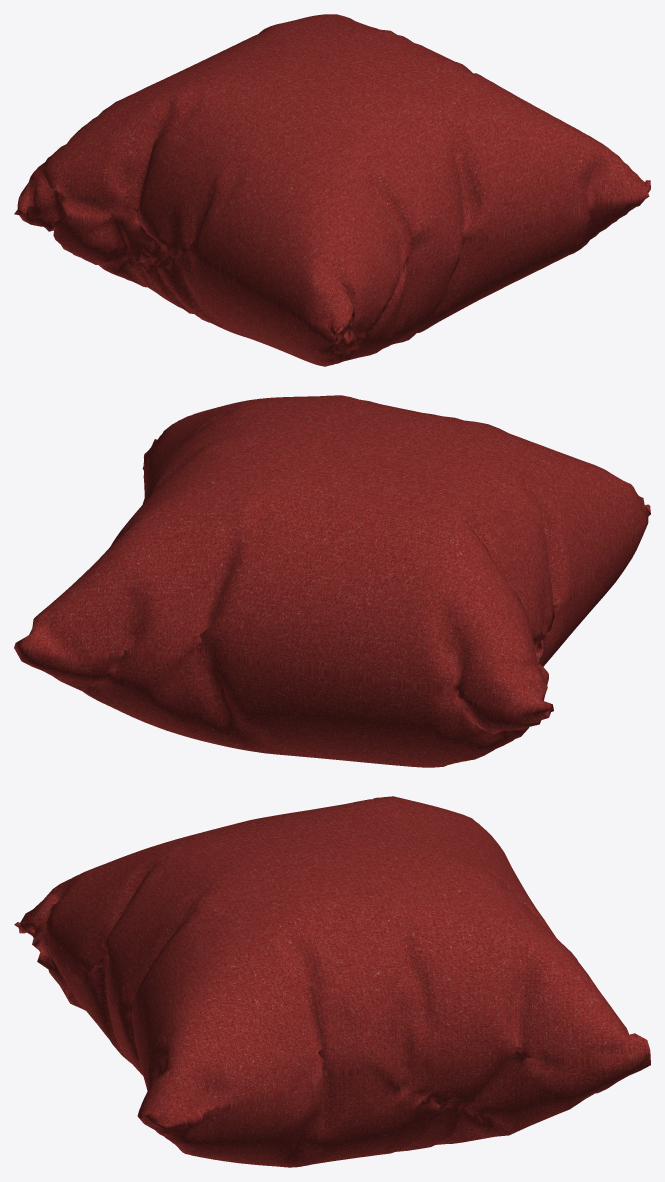
Rendered from yofukasi_2kussyonn.fbx.
The picture shows the model from 3 angles, top to bottom: view 1: azimuth 30°, elevation 25°; view 2: azimuth 150°, elevation 25°; view 3: azimuth 270°, elevation 25°; orthographic projection. The views are drawn at different scales.
Parts seen in each view (by area): view 1: Plane.001; view 2: Plane.001; view 3: Plane.001.
Part boxes in pixels (bbox=[...]): Plane.001: bbox=[14, 14, 650, 366]; Plane.001: bbox=[14, 395, 650, 767]; Plane.001: bbox=[14, 796, 650, 1167].
Bounding box in the file's own units: 214 × 105 × 212.
Materials: 1 (1 with a texture image).
